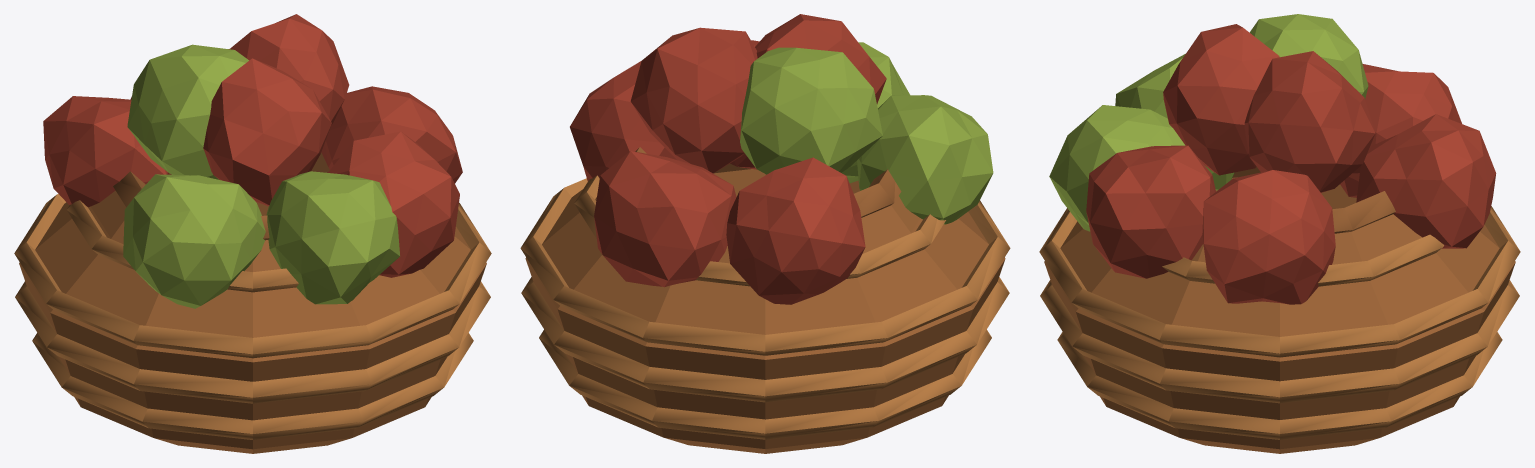
Rendered from 31_apple_basket.fbx.
3 views of the same model, side by side, from view 1: azimuth 30°, elevation 25°; view 2: azimuth 150°, elevation 25°; view 3: azimuth 270°, elevation 25° (orthographic). The views are drawn at different scales.
Visible parts, largest first — view 1: 31_apple_basket; view 2: 31_apple_basket; view 3: 31_apple_basket.
Part boxes in pixels (box(x1,y1,x2,y2)): 31_apple_basket: box(14, 14, 491, 453); 31_apple_basket: box(520, 14, 1010, 453); 31_apple_basket: box(1039, 14, 1520, 453).
Bounding box in the file's own units: 0.694 × 0.562 × 0.694.
Materials: 1 (1 with a texture image).
